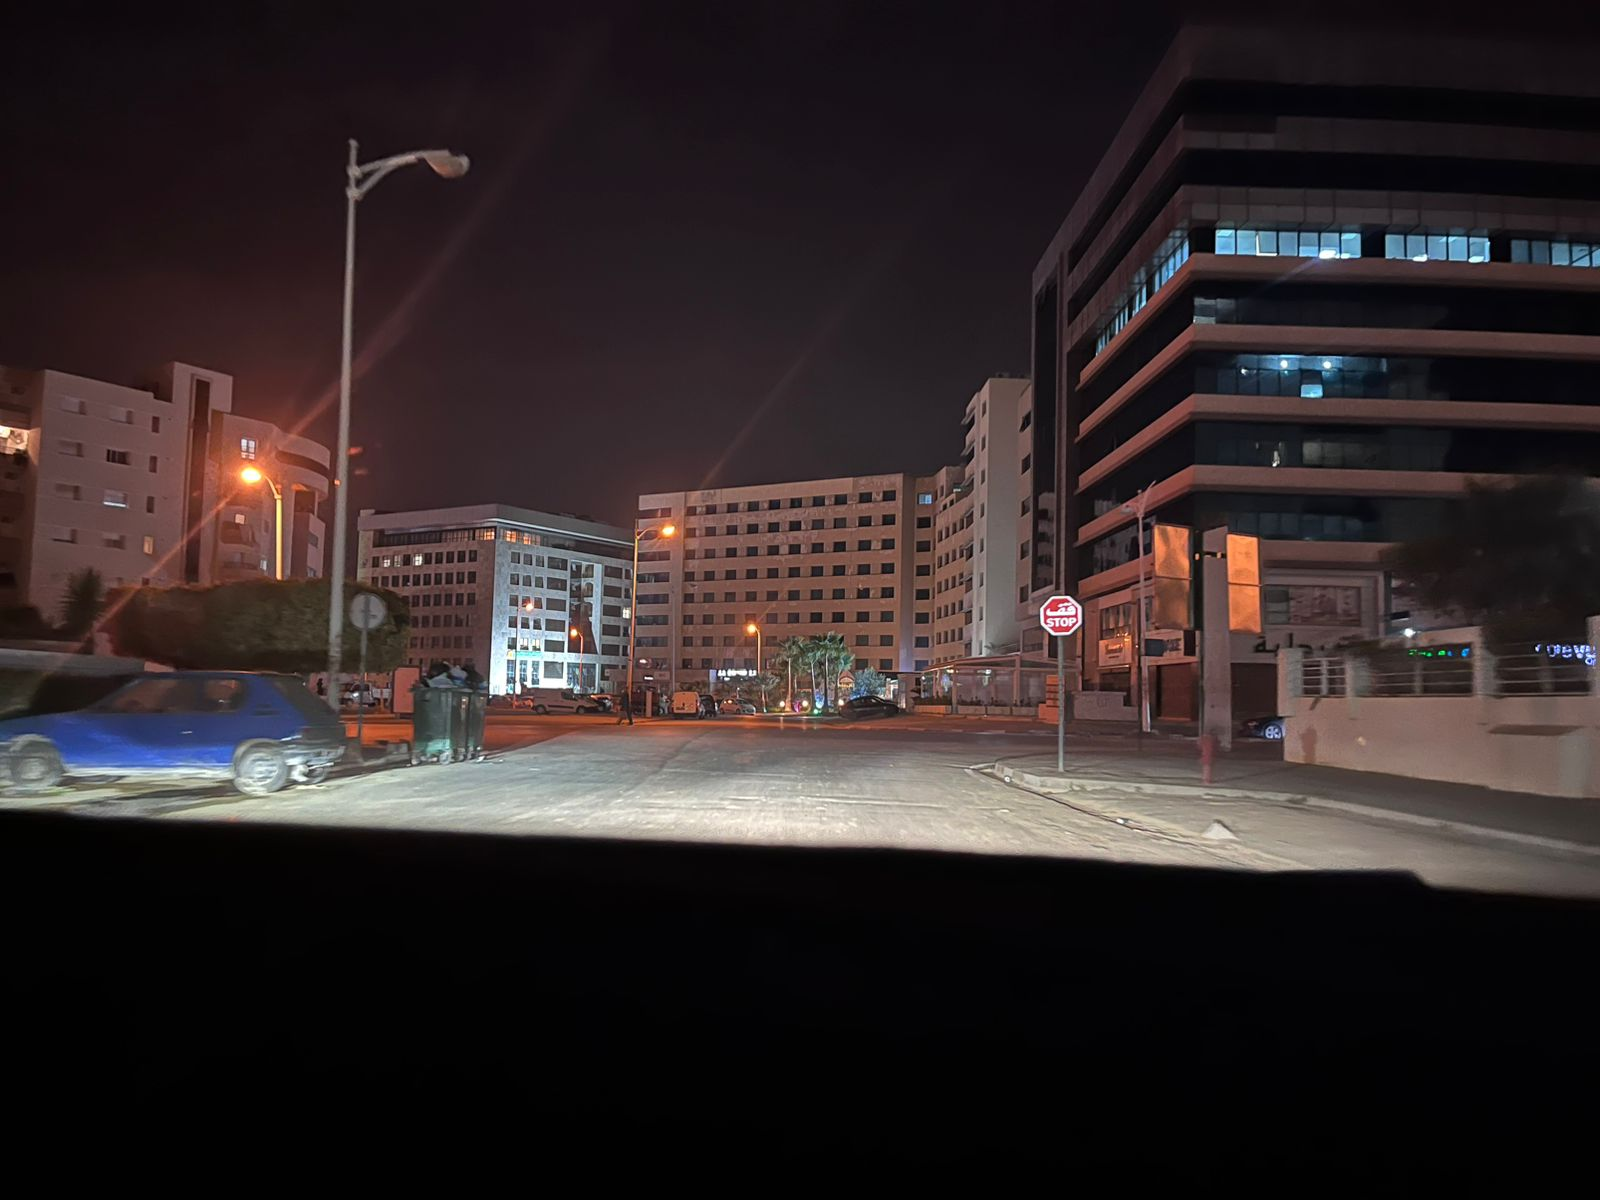Stop: (1040, 595, 1083, 636)
